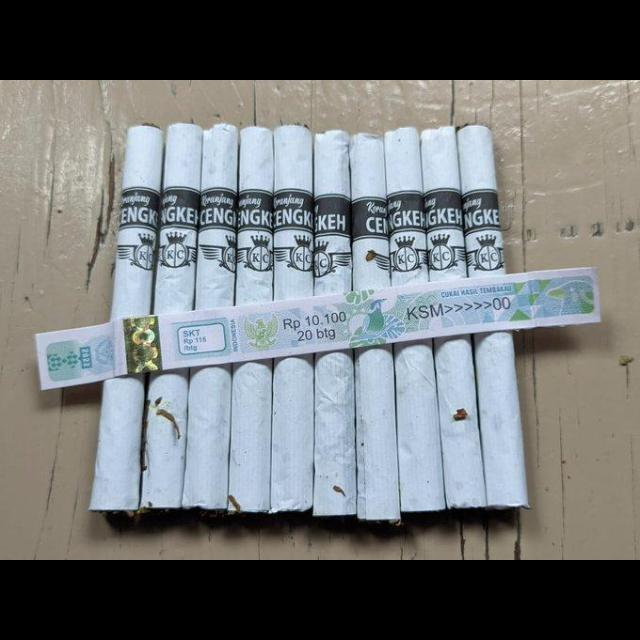rokok: (87, 120, 165, 514), (454, 120, 532, 508), (419, 118, 485, 512), (379, 124, 443, 518), (140, 116, 203, 508), (349, 128, 403, 526), (180, 120, 232, 516), (226, 120, 272, 512), (314, 123, 358, 514), (272, 123, 314, 514)
